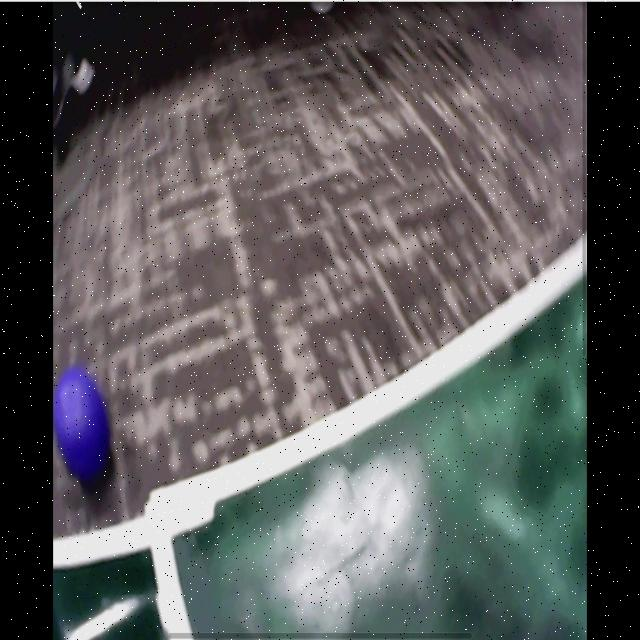ball: (54, 368, 111, 483)
